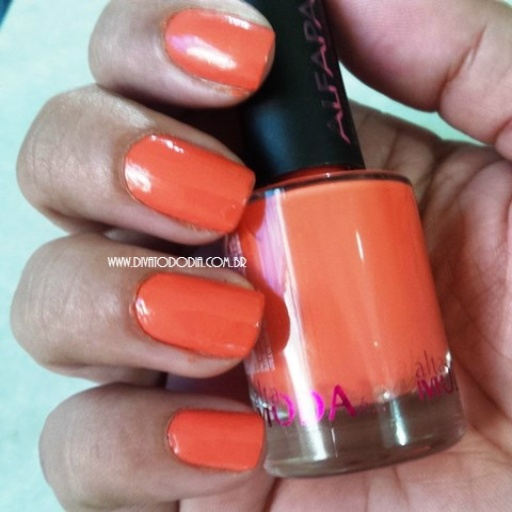hand: (3, 0, 510, 510)
